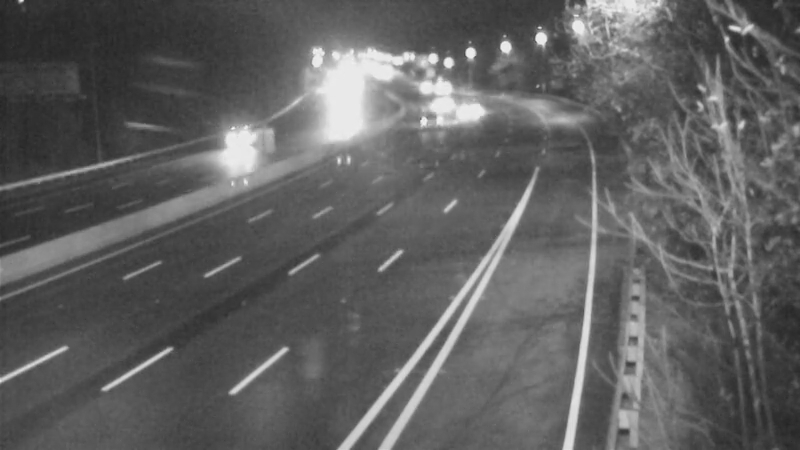vehicle: (418, 59, 468, 109), (411, 77, 461, 127), (442, 84, 492, 134), (404, 90, 454, 140), (207, 117, 257, 167)
